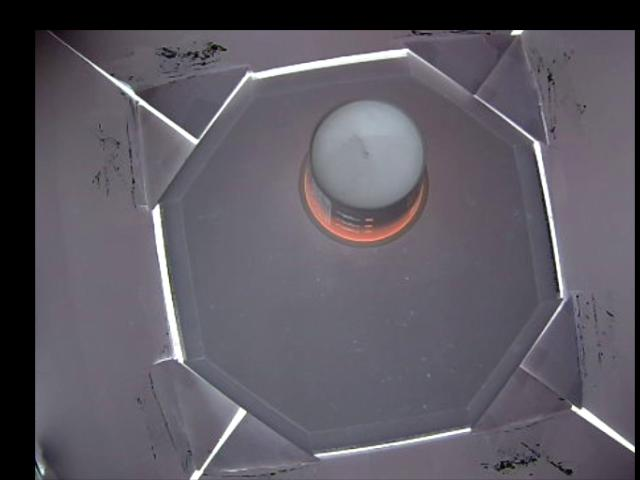Cup: (298, 96, 428, 248)
